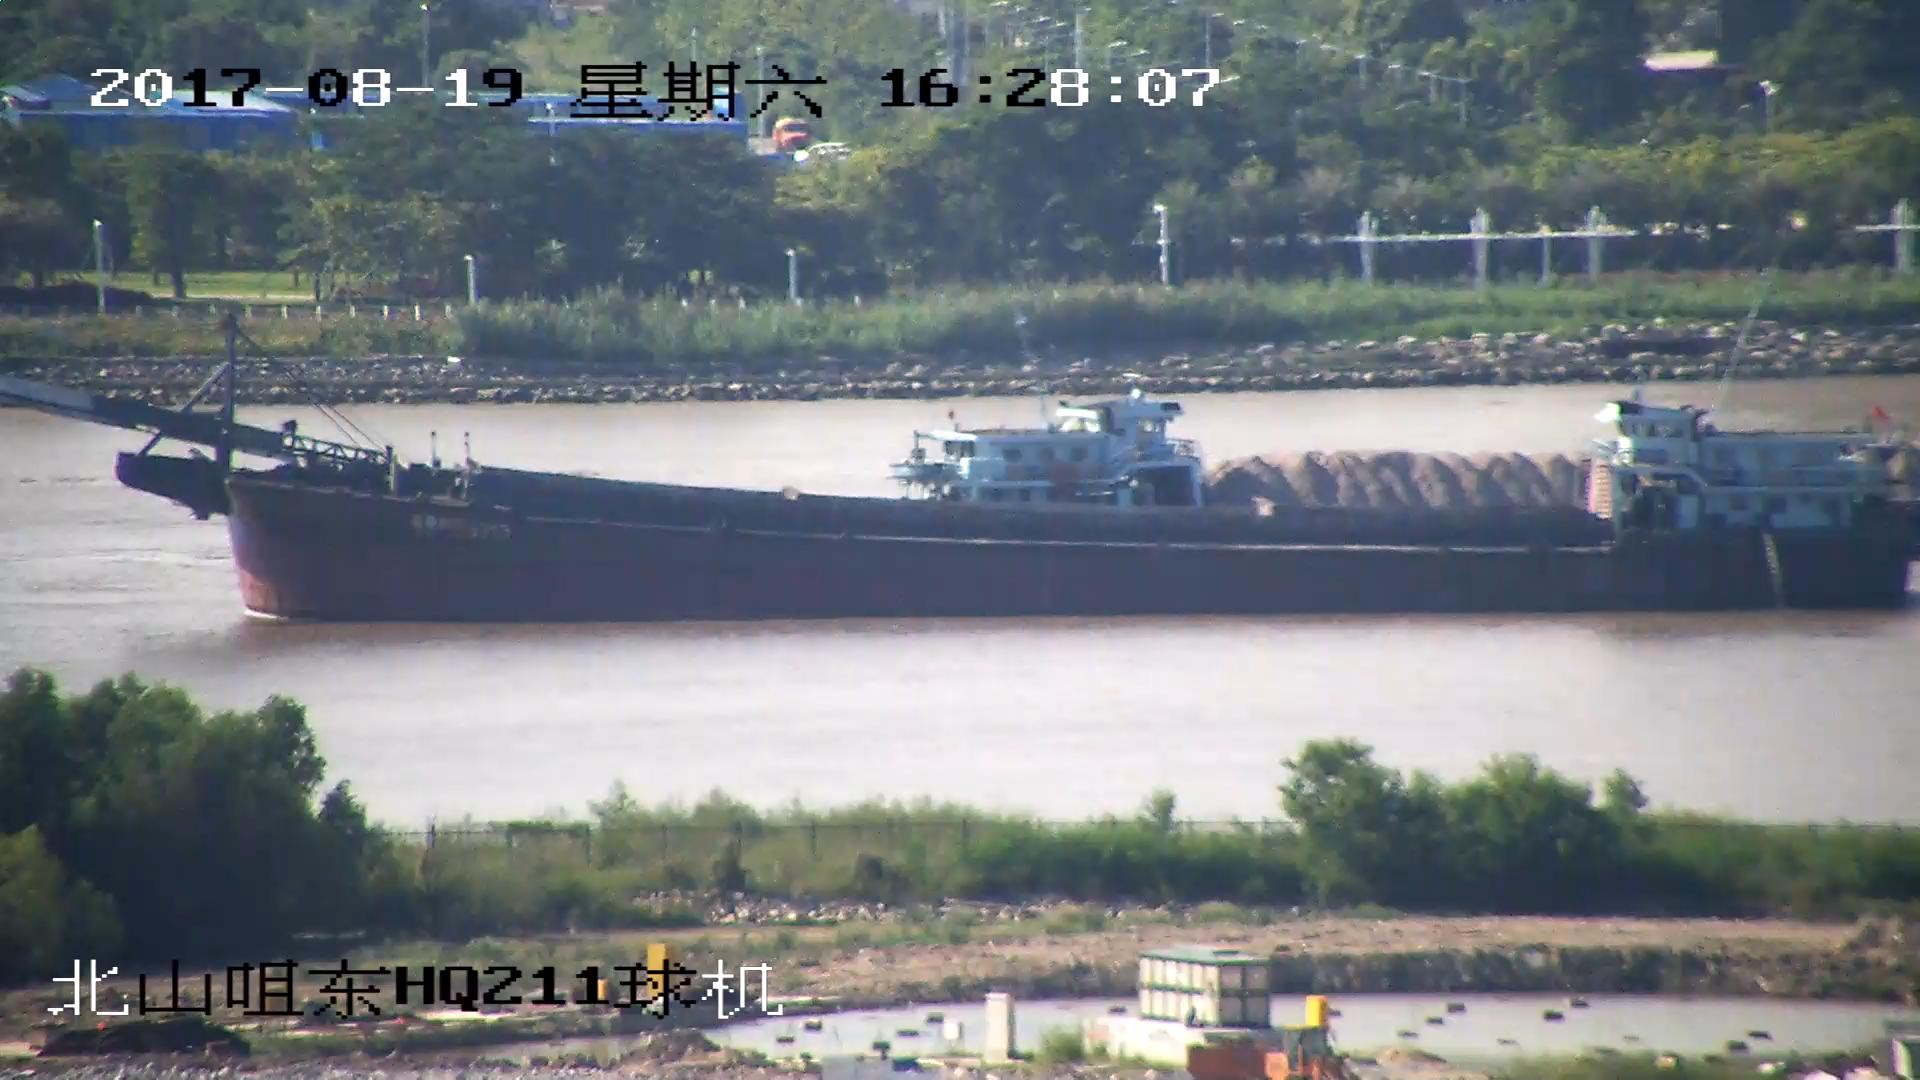bulk cargo carrier: (1, 329, 1910, 611)
ore carrier: (890, 409, 1618, 533)
